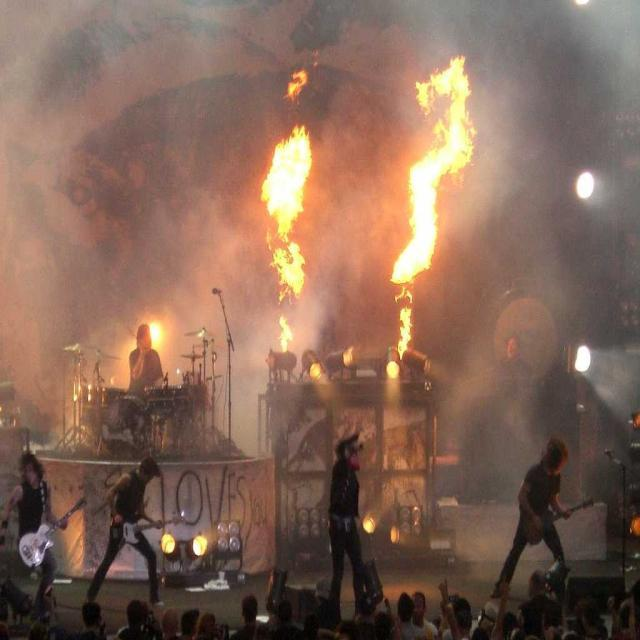Fire: (266, 137, 308, 220), (434, 82, 468, 158), (409, 176, 439, 262)
Smoke: (5, 94, 60, 343)
